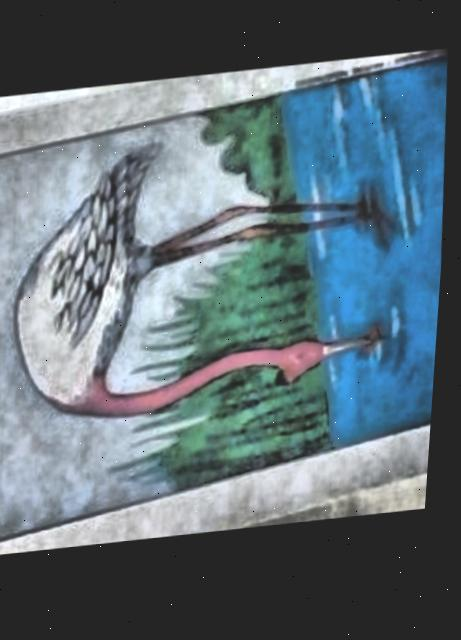El Garza: (0, 59, 448, 543)
